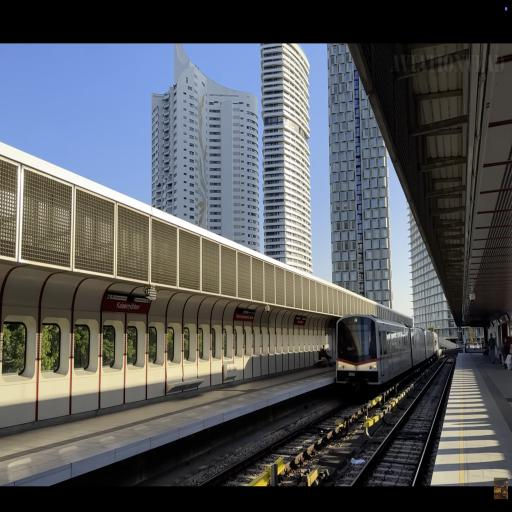V-Wagen: (334, 311, 437, 388)
